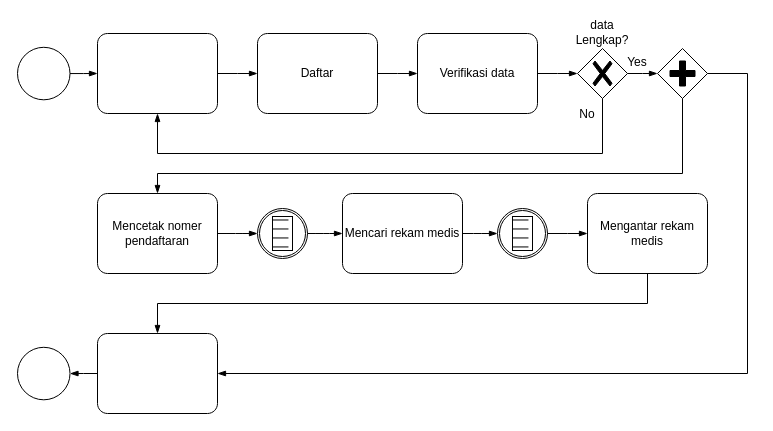
The diagram is 773 pixels wide and 431 high, and some of its shapes have lost their labels. Here are the shapes that lost their labels. From the top down, the box of each, then its label:
(96, 32, 218, 114): User Mengakses Website
(96, 332, 218, 414): Proese Pelayanan Rumah Sakit
